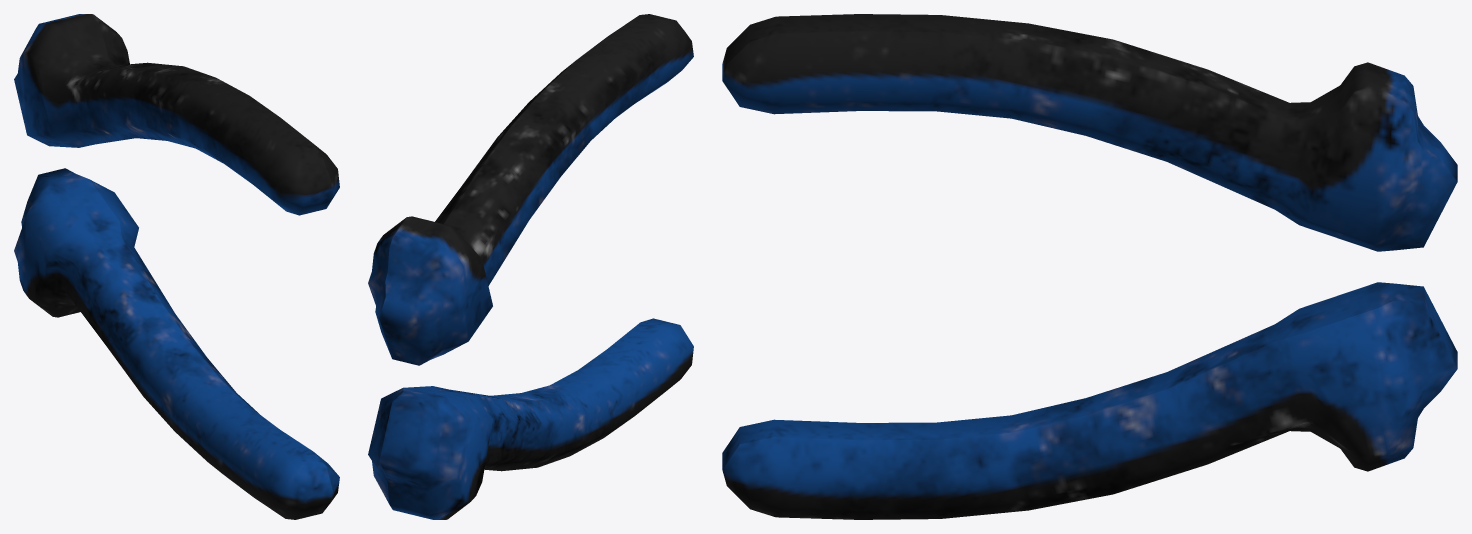
Rendered from Pliers_Handles_low.obj.
3 views of the same model, side by side, from view 1: azimuth 30°, elevation 25°; view 2: azimuth 150°, elevation 25°; view 3: azimuth 270°, elevation 25° (orthographic). The views are drawn at different scales.
Size of the model in its own units: 0.015 by 0.061 by 0.0831.
1 material, 1 textured.
